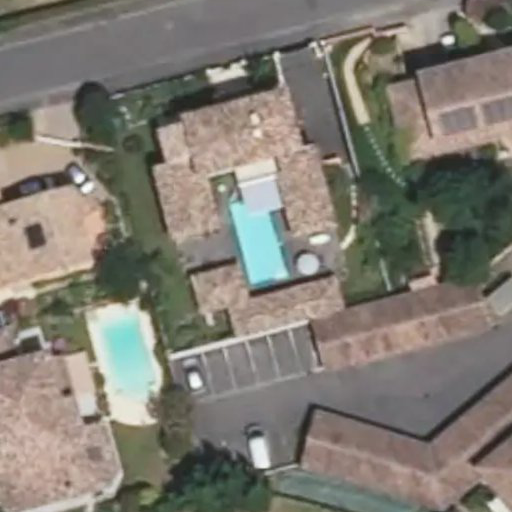pool: (225, 204, 286, 279)
